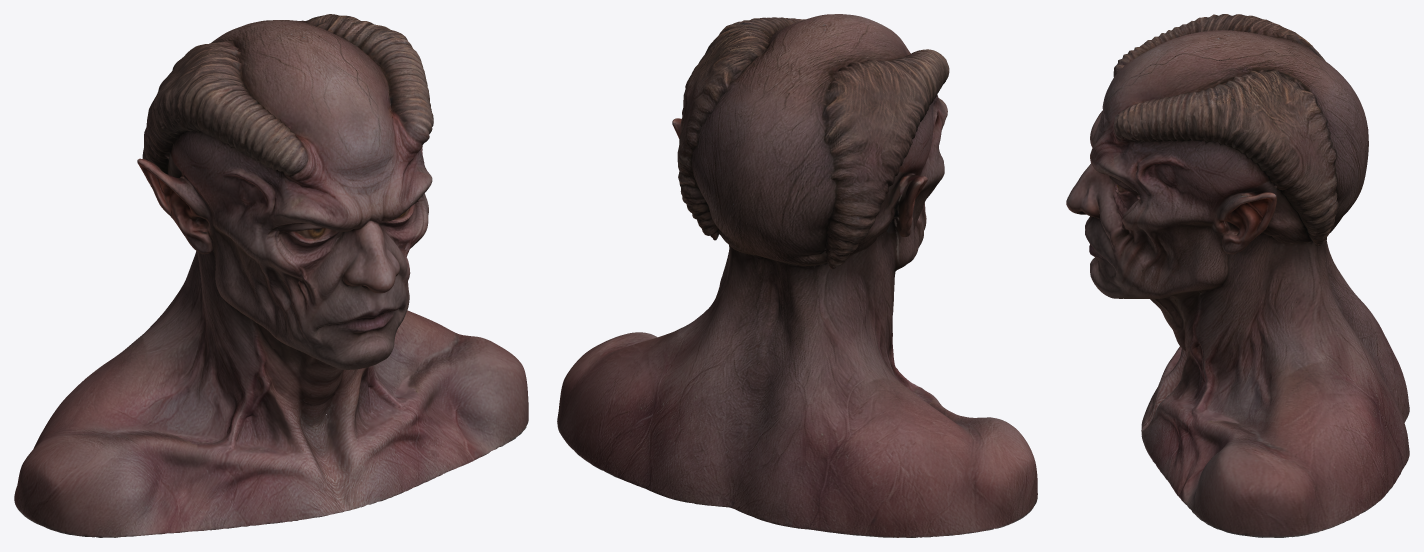
File: varco-source.glb
3 renders of one model, left to right at view 1: azimuth 30°, elevation 25°; view 2: azimuth 150°, elevation 25°; view 3: azimuth 270°, elevation 25°, orthographic. The views are drawn at different scales.
Parts seen in each view (by area): view 1: texture_mapping; view 2: texture_mapping; view 3: texture_mapping.
Part boxes in pixels (x1,y1,x2,y2): texture_mapping: [14, 14, 528, 537]; texture_mapping: [557, 14, 1037, 537]; texture_mapping: [1066, 14, 1409, 537].
Bounding box in the file's own units: 0.9994 × 0.8692 × 0.6846.
1 material, 1 textured.
